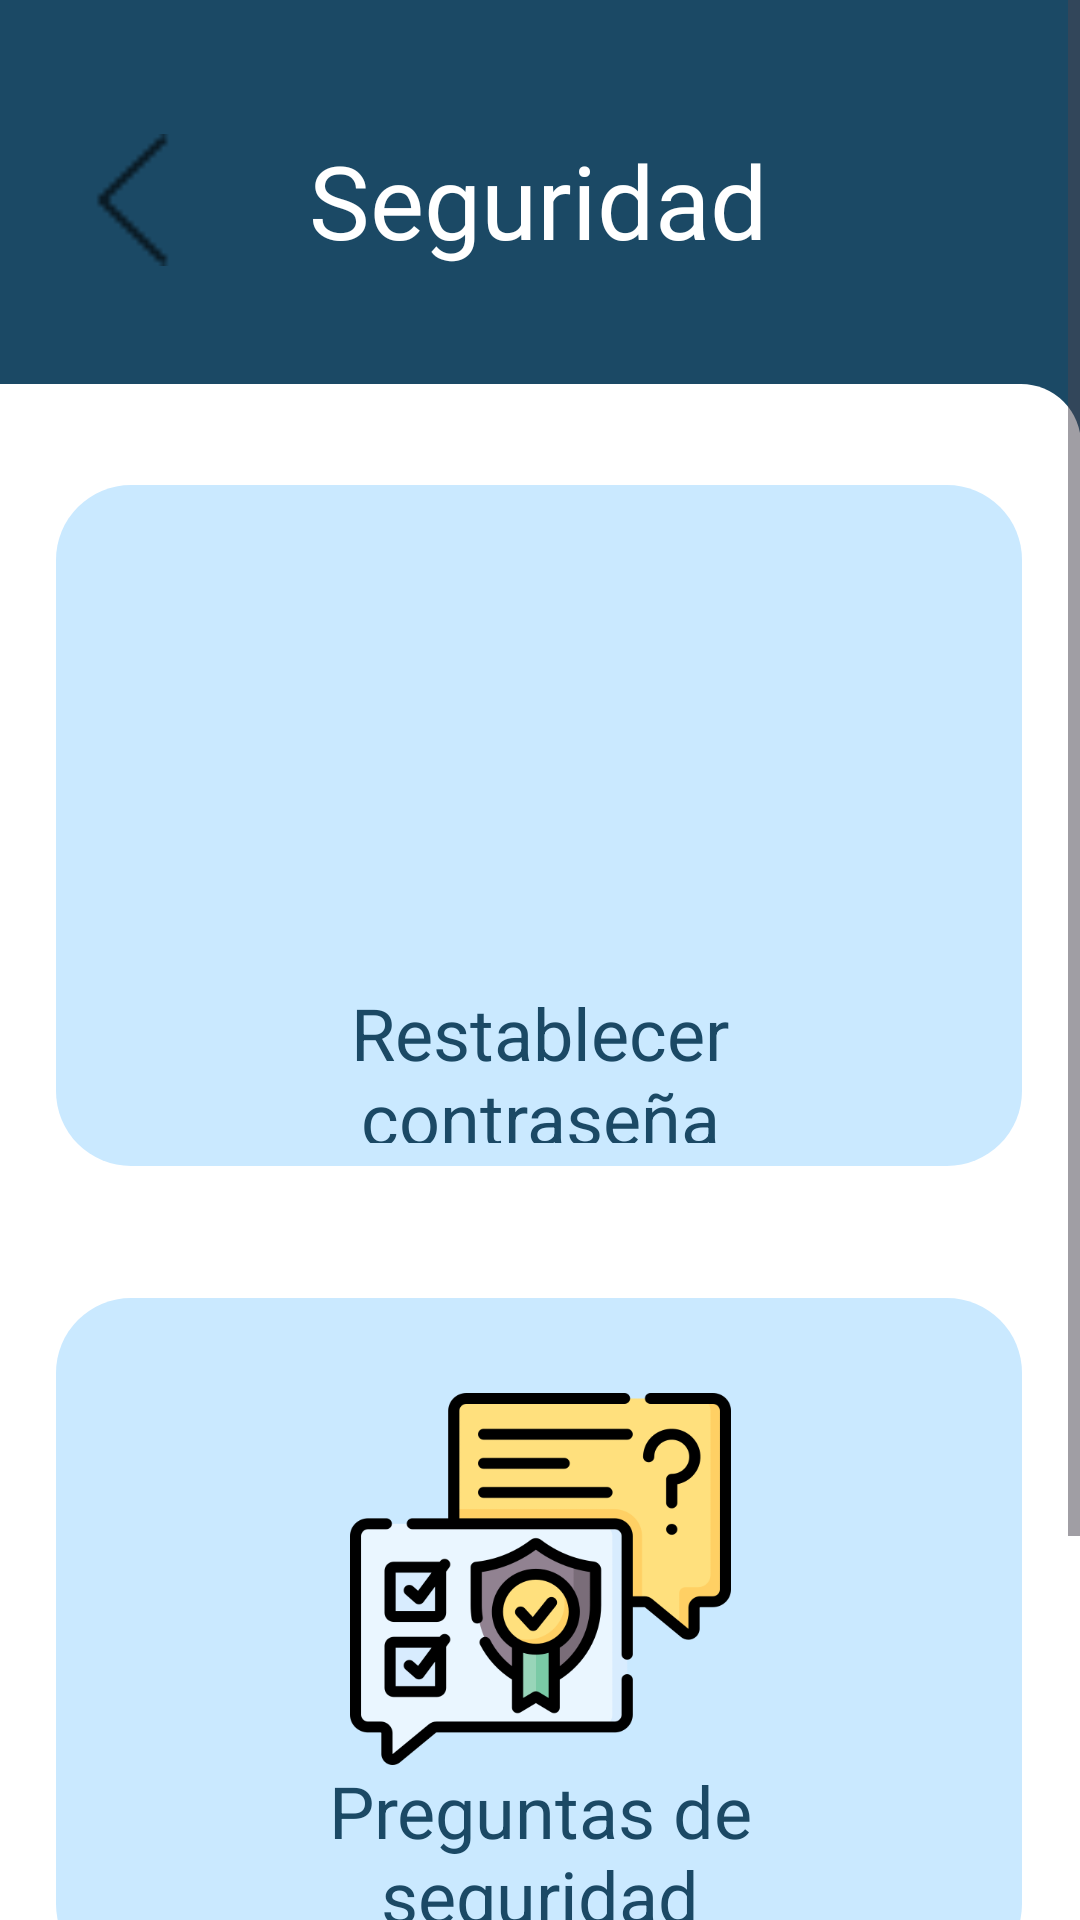

Icons on this 1080w x 1920h Android screen, each with its box as bbox(x1, y1, x2, y2):
flecha: bbox(98, 134, 167, 266)
